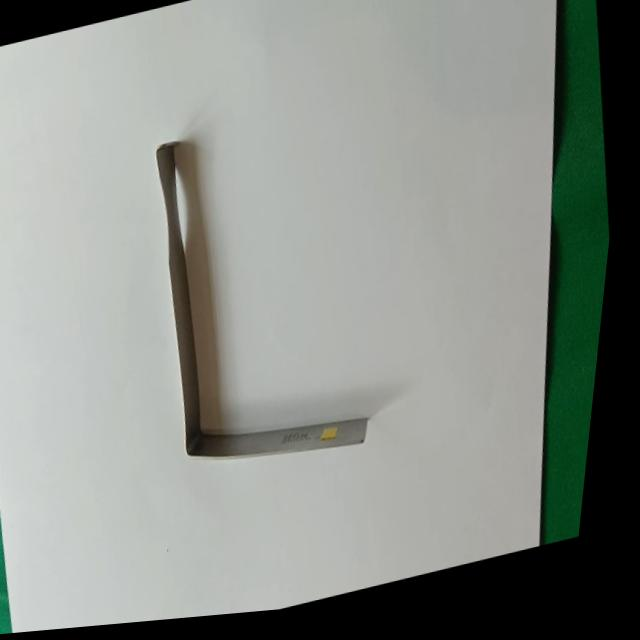AustinRetractor: (113, 85, 416, 509)
